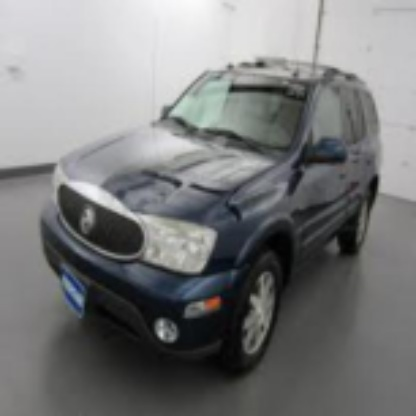Vehicle: (38, 56, 386, 377)
